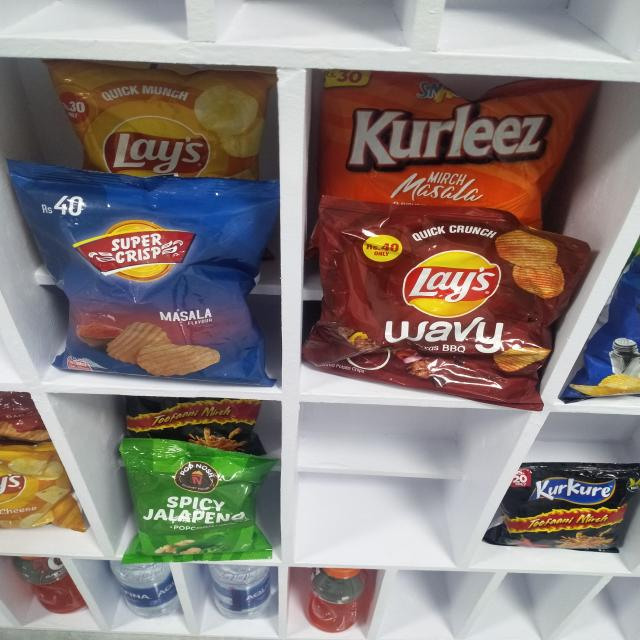Plastic: (21, 172, 272, 382), (314, 225, 572, 408), (316, 72, 582, 206), (60, 66, 273, 172), (128, 448, 261, 561), (504, 465, 636, 550), (120, 395, 262, 442), (13, 556, 86, 618), (4, 458, 67, 529), (305, 567, 363, 630), (204, 566, 274, 618), (600, 303, 640, 393), (110, 566, 173, 622), (0, 394, 43, 438)
